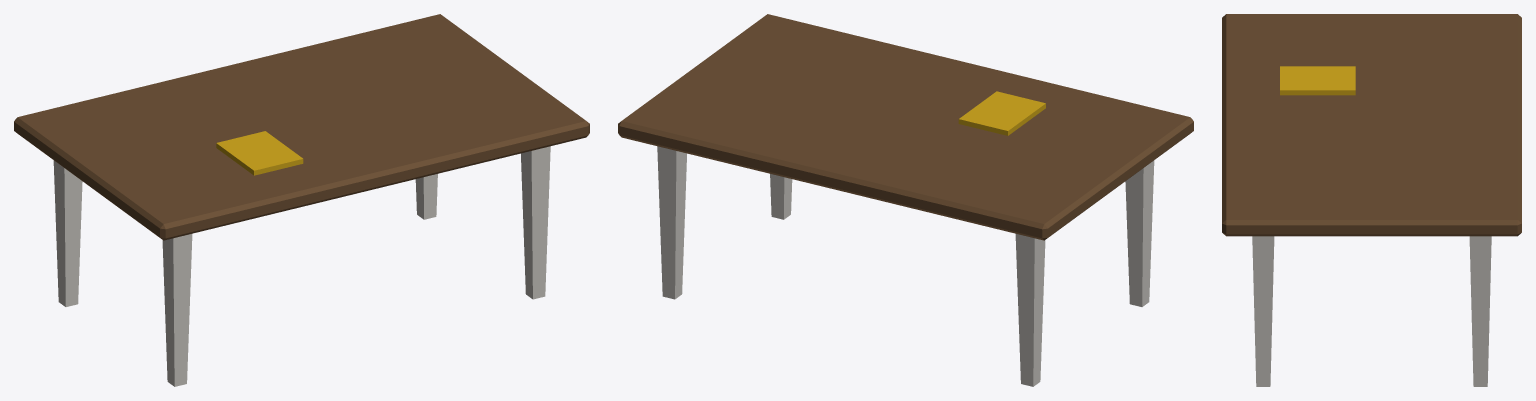
Rendered from meeting-table-15.glb.
The picture shows the model from 3 angles, left to right: view 1: azimuth 30°, elevation 25°; view 2: azimuth 150°, elevation 25°; view 3: azimuth 270°, elevation 25°; orthographic projection.
Visible parts, largest first — view 1: meeting_table_15; view 2: meeting_table_15; view 3: meeting_table_15.
Boxes of the visible parts, x1,y1,x2,y2 form: meeting_table_15: (14,14,589,386); meeting_table_15: (618,14,1193,386); meeting_table_15: (1222,14,1521,386).
Size of the model in its own units: 1.83 by 0.7535 by 1.11.
